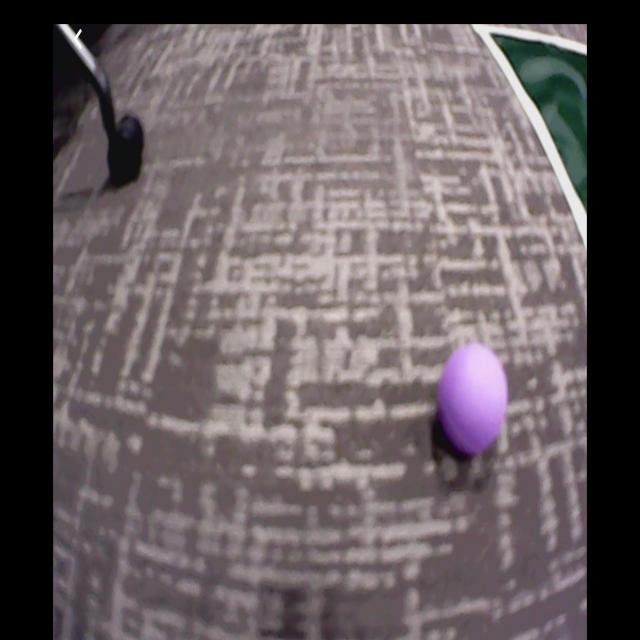ball: (437, 341, 510, 458)
